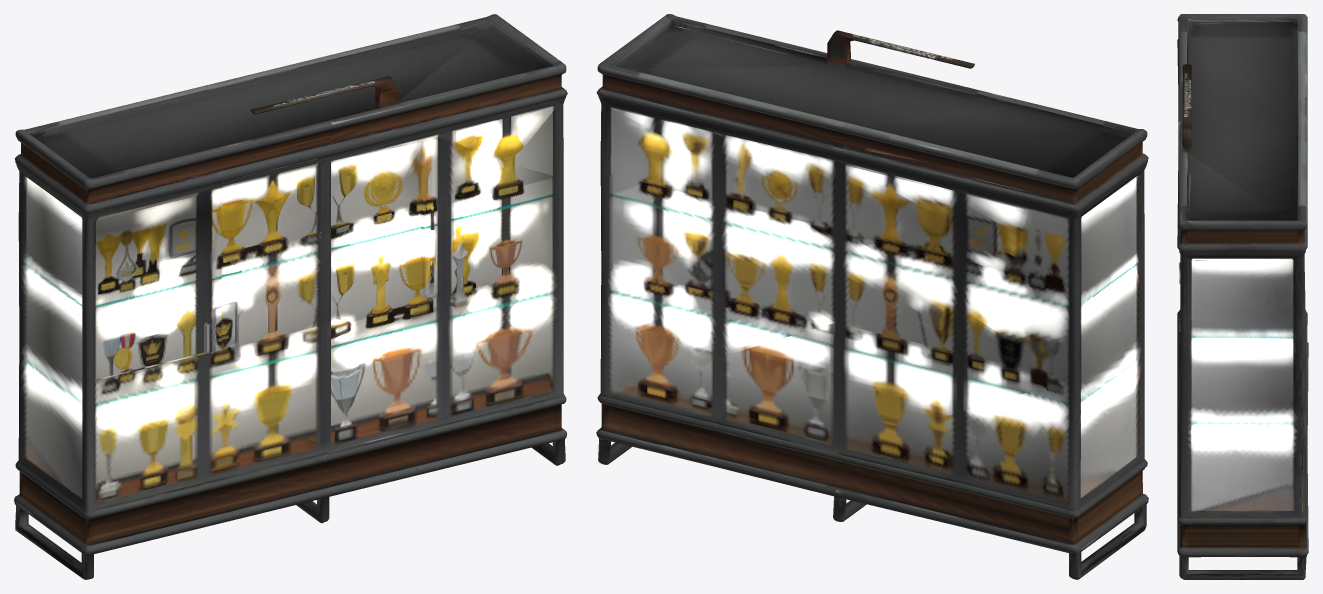
The model's file is Meshy_AI_Awards_Achievements_0509134336_texture.fbx.
The picture shows the model from 3 angles, left to right: view 1: azimuth 30°, elevation 25°; view 2: azimuth 150°, elevation 25°; view 3: azimuth 270°, elevation 25°; orthographic projection. The views are drawn at different scales.
Visible parts, largest first — view 1: Mesh_0; view 2: Mesh_0; view 3: Mesh_0.
Part boxes in pixels (x1,y1,x2,y2): Mesh_0: (14, 14, 567, 579); Mesh_0: (596, 14, 1148, 579); Mesh_0: (1177, 14, 1308, 579).
Size of the model in its own units: 191 by 161 by 50.1.
Materials: 1 (1 with a texture image).
